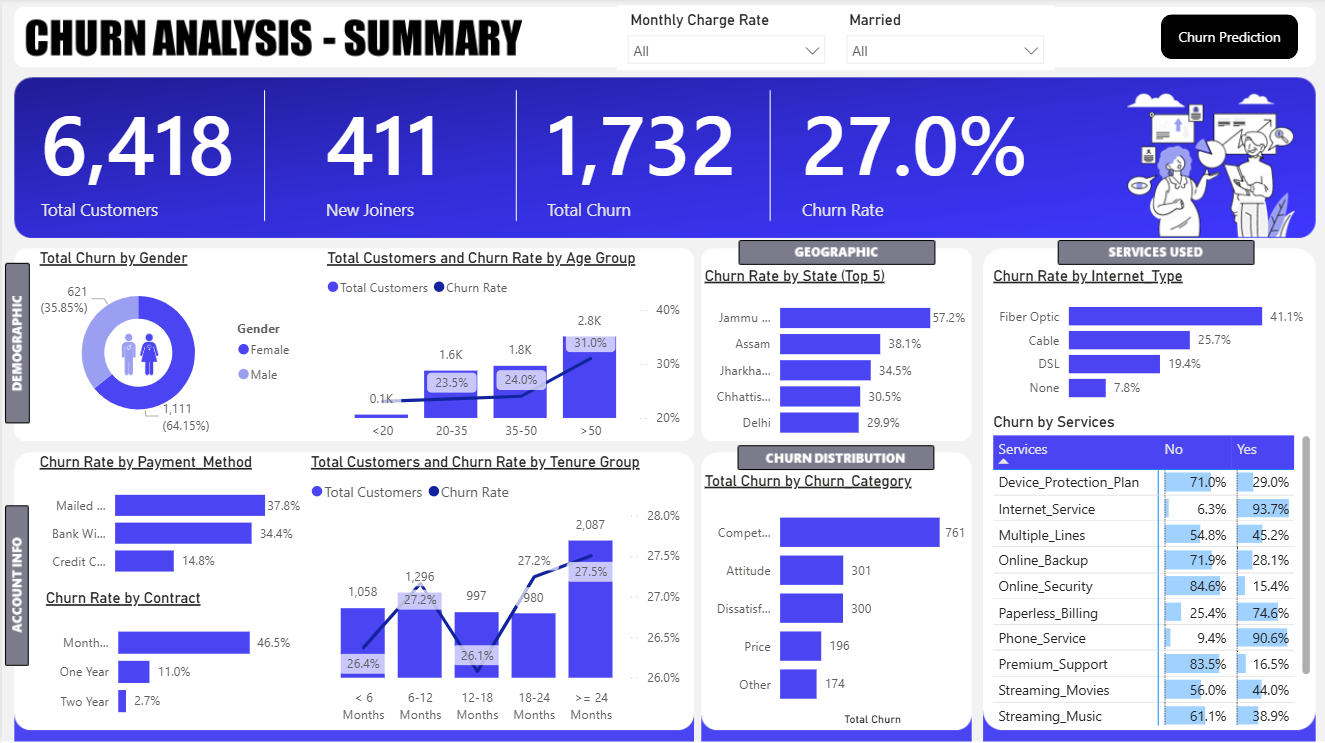

This screenshot's page, from the dashboard's own definition file:
{"tool":"powerbi","page":{"name":"Summary","canvas":[1280,720],"ordinal":0},"visuals":[{"type":"image","box":[103.8,317.3,59.1,51.9],"z":0},{"type":"cardVisual","fields":{"Data":["Measure Table.Total Customers"]},"box":[8.4,70,248.5,159.3],"z":1000},{"type":"cardVisual","fields":{"Data":["Measure Table.Churn Rate"]},"box":[743.2,70,277.5,159.3],"z":2000},{"type":"cardVisual","fields":{"Data":["Measure Table.Total Churn"]},"box":[497.1,70,246.1,159.3],"z":3000},{"type":"cardVisual","fields":{"Data":["Measure Table.New Joiners"]},"box":[283.5,70,213.5,159.3],"z":4000},{"type":"donutChart","fields":{"Category":["prod_Churn.Gender"],"Y":["Measure Table.Total Churn"]},"box":[31.4,242.5,261.8,183.4],"z":5000},{"type":"lineStackedColumnComboChart","fields":{"Category":["mapping_AgeGroup.Age Group"],"Y":["Measure Table.Total Customers"],"Y2":["Measure Table.Churn Rate"]},"box":[308.8,242.5,351.1,193],"z":6000},{"type":"barChart","fields":{"Category":["prod_Churn.Payment_Method"],"Y":["Measure Table.Churn Rate"]},"box":[31.4,439.1,261.8,131.5],"z":7000},{"type":"barChart","fields":{"Category":["prod_Churn.Contract"],"Y":["Measure Table.Churn Rate"]},"box":[37.4,570.6,246.1,136.3],"z":8000},{"type":"lineStackedColumnComboChart","fields":{"Category":["mapping_TenureGroup.Tenure Group"],"Y":["Measure Table.Total Customers"],"Y2":["Measure Table.Churn Rate"]},"box":[293.2,439.1,366.8,267.8],"z":9000},{"type":"barChart","title":"Churn Rate by State (Top 5)","fields":{"Category":["prod_Churn.State"],"Y":["Measure Table.Churn Rate"]},"box":[673.2,259.4,261.8,176.1],"z":10000},{"type":"barChart","fields":{"Category":["prod_Churn.Churn_Category"],"Y":["Measure Table.Total Churn"]},"box":[673.2,457.2,261.8,249.7],"z":11000},{"type":"clusteredBarChart","fields":{"Category":["prod_Churn.Internet_Type"],"Y":["Measure Table.Churn Rate"]},"box":[951.9,259.4,316.1,141.2],"z":12000},{"type":"pivotTable","title":"Churn by Services","fields":{"Rows":["prod_Services.Services"],"Columns":["prod_Services.Status"],"Values":["Sum(prod_Services.Churn Status)"]},"box":[951.9,400.5,316.1,306.4],"z":13000},{"type":"slicer","fields":{"Values":["prod_Churn.Monthly Charge Status"]},"box":[593.6,7.2,211.1,62.7],"z":14000},{"type":"slicer","fields":{"Values":["prod_Churn.Married"]},"box":[804.7,7.2,211.1,62.7],"z":15000},{"type":"shape","box":[1118.4,15.7,132.7,43.4],"z":16000}]}

Visuals, with their boxes in screenshot pixels (x1, y1, x2, y2), scaled from the page's 1280x720 canvas onto the 1325x743 screenshot:
image: region(107, 327, 169, 381)
cardVisual - Measure Table.Total Customers: region(9, 72, 266, 237)
cardVisual - Measure Table.Churn Rate: region(769, 72, 1057, 237)
cardVisual - Measure Table.Total Churn: region(515, 72, 769, 237)
cardVisual - Measure Table.New Joiners: region(293, 72, 514, 237)
donutChart - prod_Churn.Gender x Measure Table.Total Churn: region(33, 250, 304, 440)
lineStackedColumnComboChart - mapping_AgeGroup.Age Group x Measure Table.Total Customers: region(320, 250, 683, 449)
barChart - prod_Churn.Payment_Method x Measure Table.Churn Rate: region(33, 453, 304, 589)
barChart - prod_Churn.Contract x Measure Table.Churn Rate: region(39, 589, 293, 729)
lineStackedColumnComboChart - mapping_TenureGroup.Tenure Group x Measure Table.Total Customers: region(304, 453, 683, 729)
"Churn Rate by State (Top 5)" barChart: region(697, 268, 968, 449)
barChart - prod_Churn.Churn_Category x Measure Table.Total Churn: region(697, 472, 968, 729)
clusteredBarChart - prod_Churn.Internet_Type x Measure Table.Churn Rate: region(985, 268, 1313, 413)
"Churn by Services" pivotTable: region(985, 413, 1313, 729)
slicer - prod_Churn.Monthly Charge Status: region(614, 7, 833, 72)
slicer - prod_Churn.Married: region(833, 7, 1052, 72)
shape: region(1158, 16, 1295, 61)
